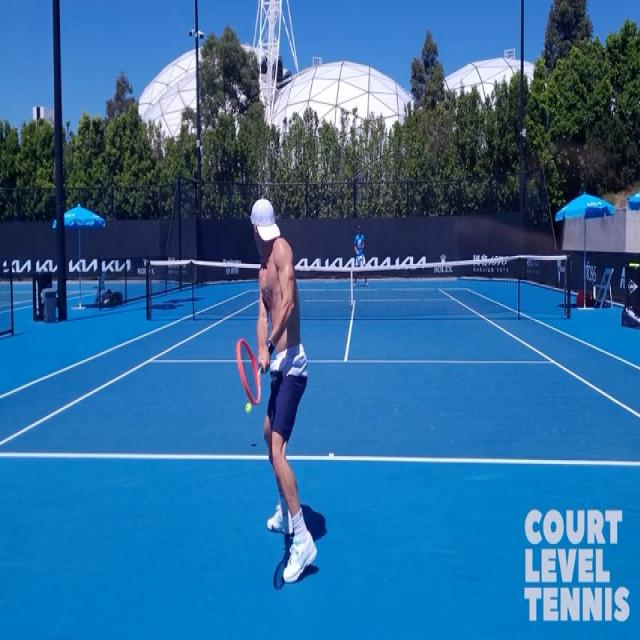backhand-ready: (233, 194, 320, 591)
